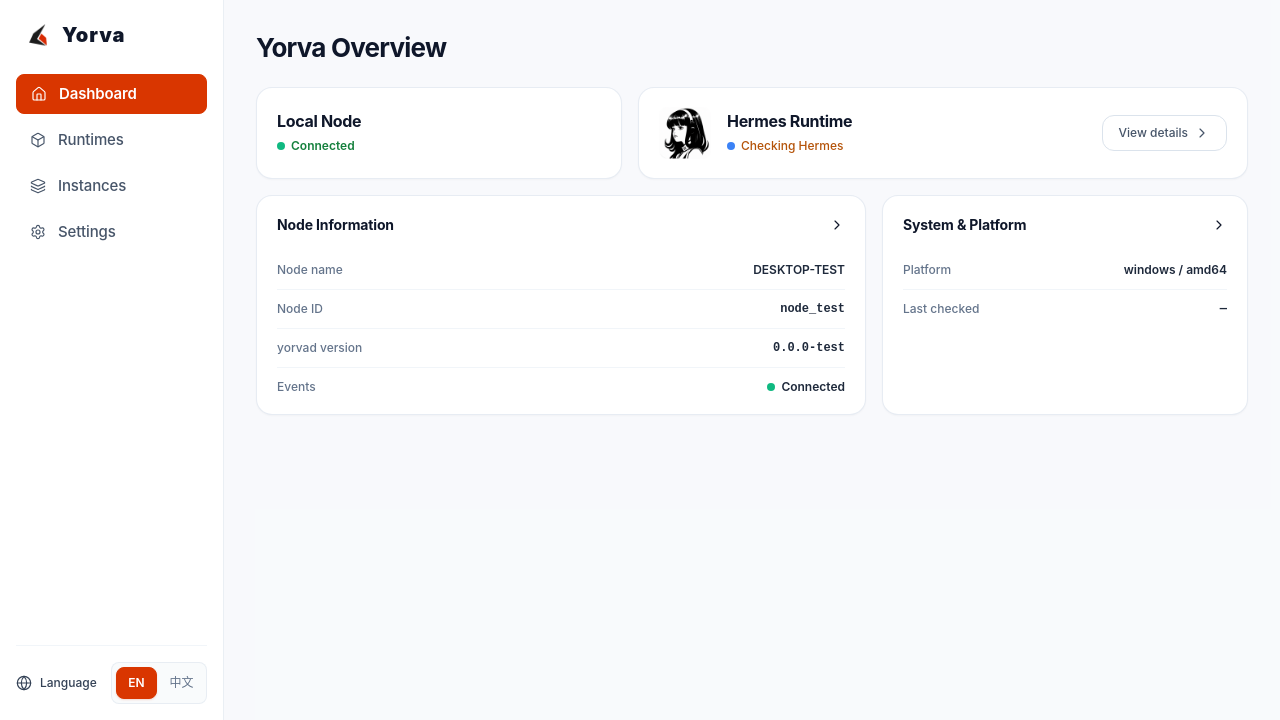
Test case: App Desktop navigation and locale › starts only the stopped default Hermes Runtime when the Runtime page opens
Check: the text "DESKTOP-TEST" is shown, box [753,261,845,279]
Click the button "Runtimes" at (112, 140), box [16,120,207,160]
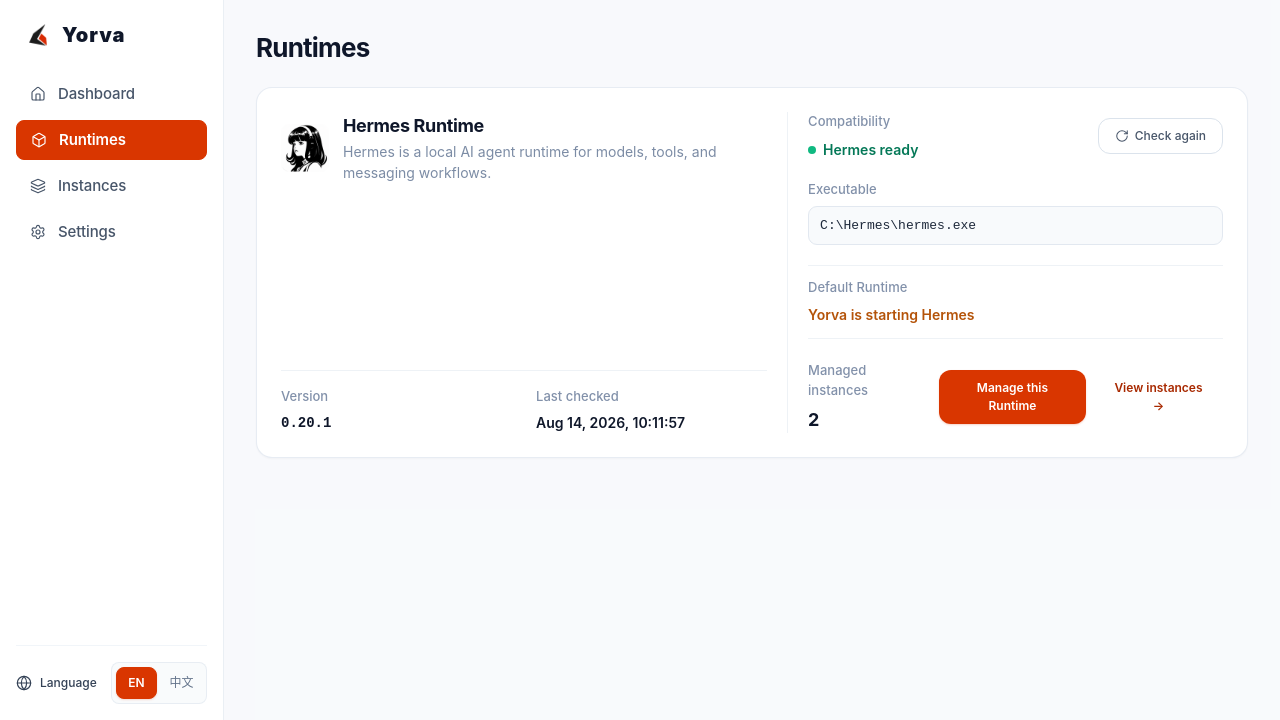
Check: the text "Yorva is starting Hermes" is shown, box [808,306,975,323]
